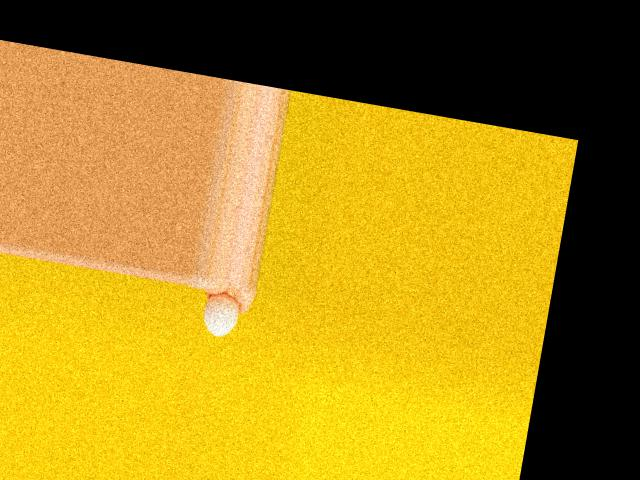egg: (201, 290, 241, 339)
